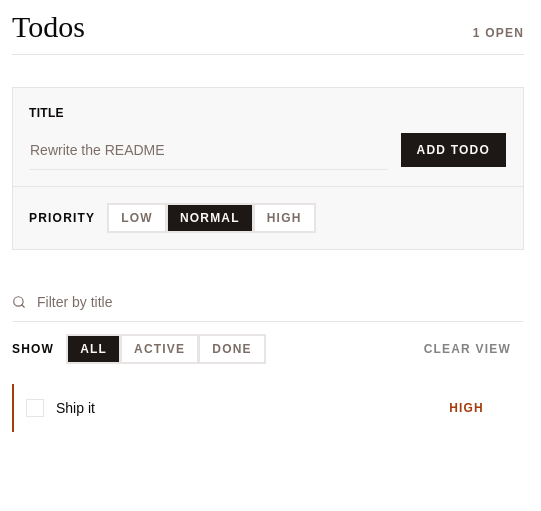
Test: <TodosPanel /> › ticks a todo off, then filters it out of view and back
What coordinates should you click on to do the following:
click the checkbox named "Ship it"
I would click on:
 (35, 408)
Its box is [26, 398, 44, 416].
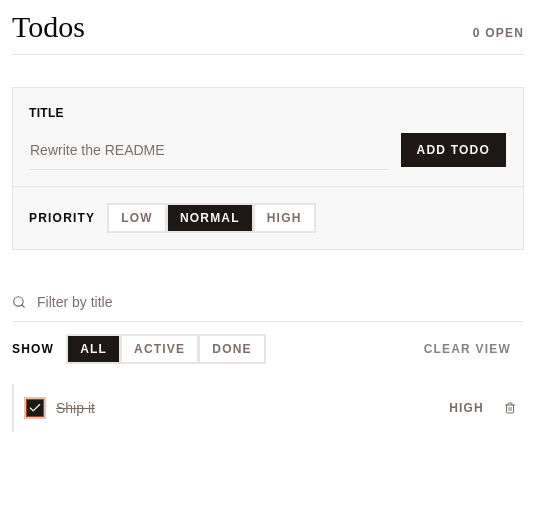
Expected: the checkbox named "Ship it" is checked, [26, 398, 44, 416]
What coordinates should you click on to do the following:
click the button "active"
I would click on:
 (160, 348)
Its box is [121, 334, 198, 362].
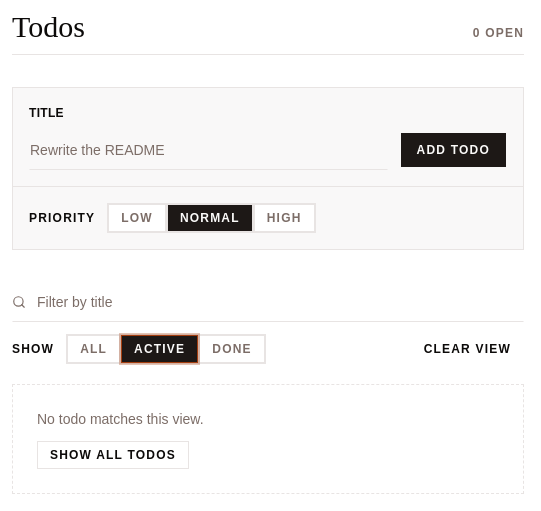
Expected: the text "No todo matches this view." is shown, [37, 408, 204, 428]
What coordinates should you click on to do the following:
click the button "Show all todos"
I would click on:
 (113, 454)
Its box is [37, 440, 189, 468].
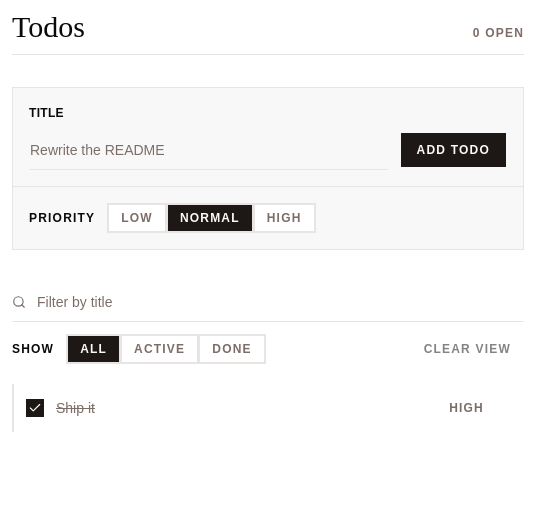
Expected: the list named "Todos" shows "Ship it", [56, 398, 437, 418]
